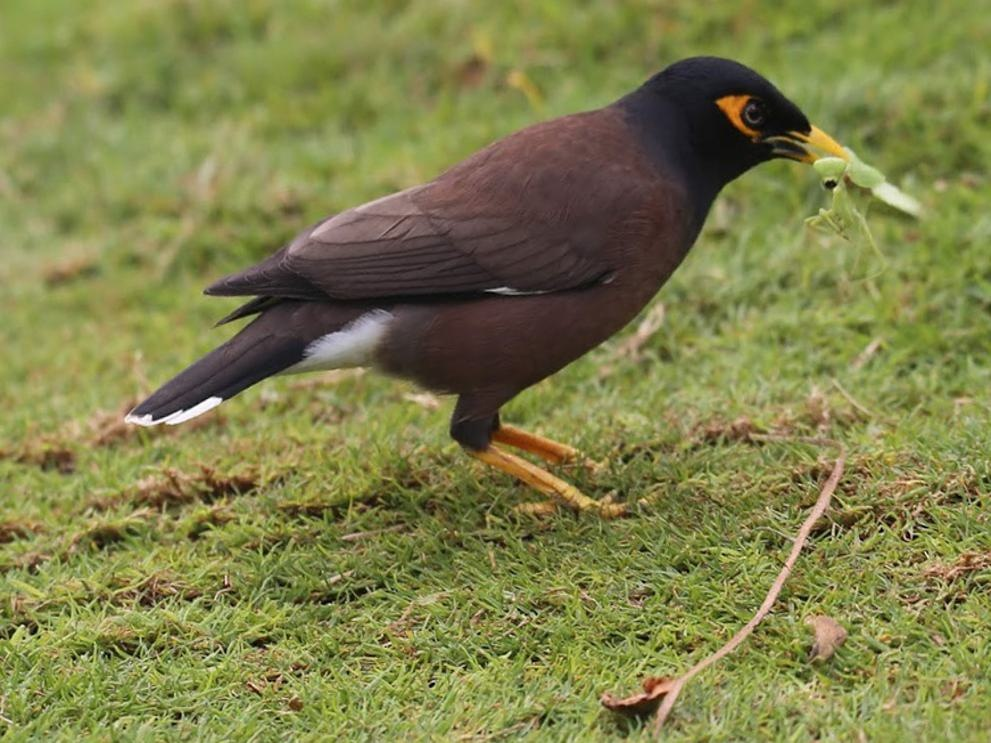myna: (89, 50, 864, 535)
